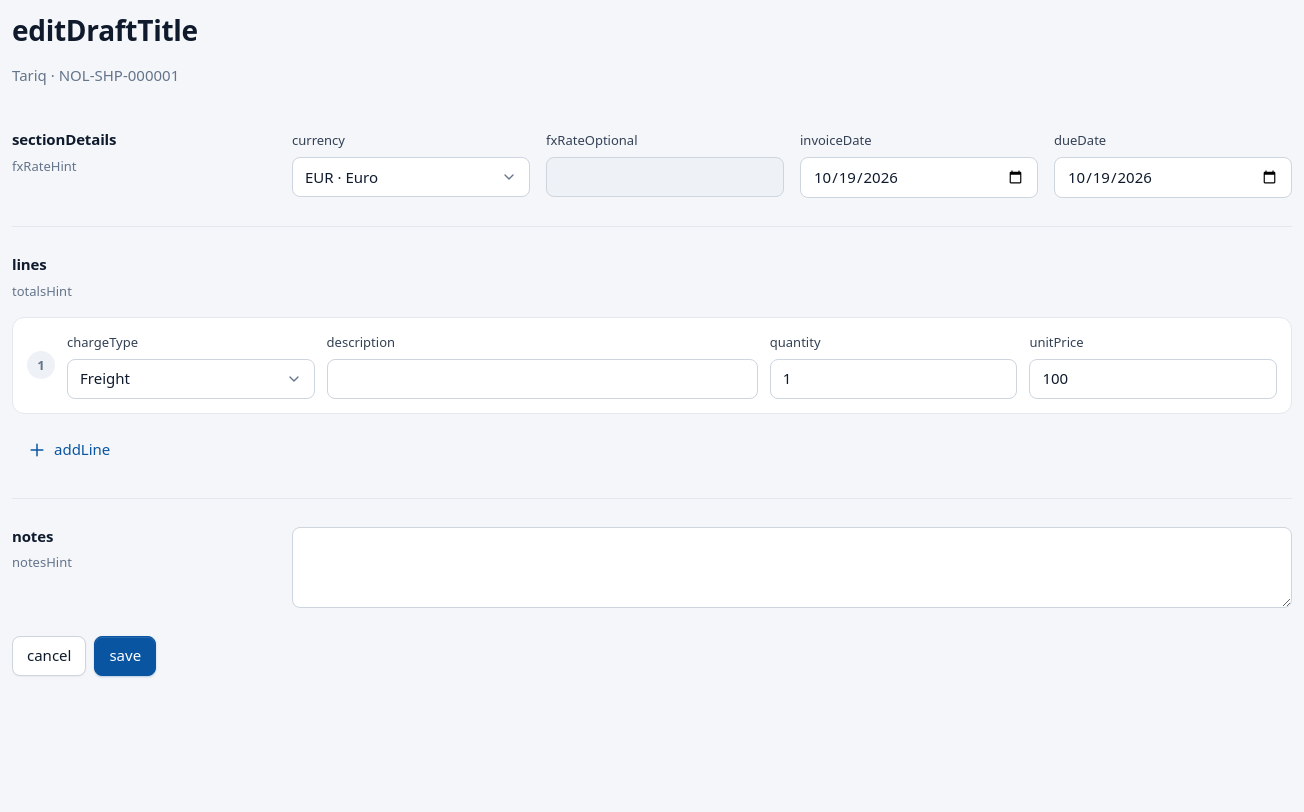
Test: InvoiceForm currency change (Codex F92-6) › clears the prices in another currency and restores them back in its own
This screenshot has width=1304, height=812.
Expected: the field labelled "unitPrice" holds "100", [1029,359,1277,399]
Step 1. Select "EUR · Euro" in the dropdown labelled "currency" → point(411, 177), box [292,157,530,197]
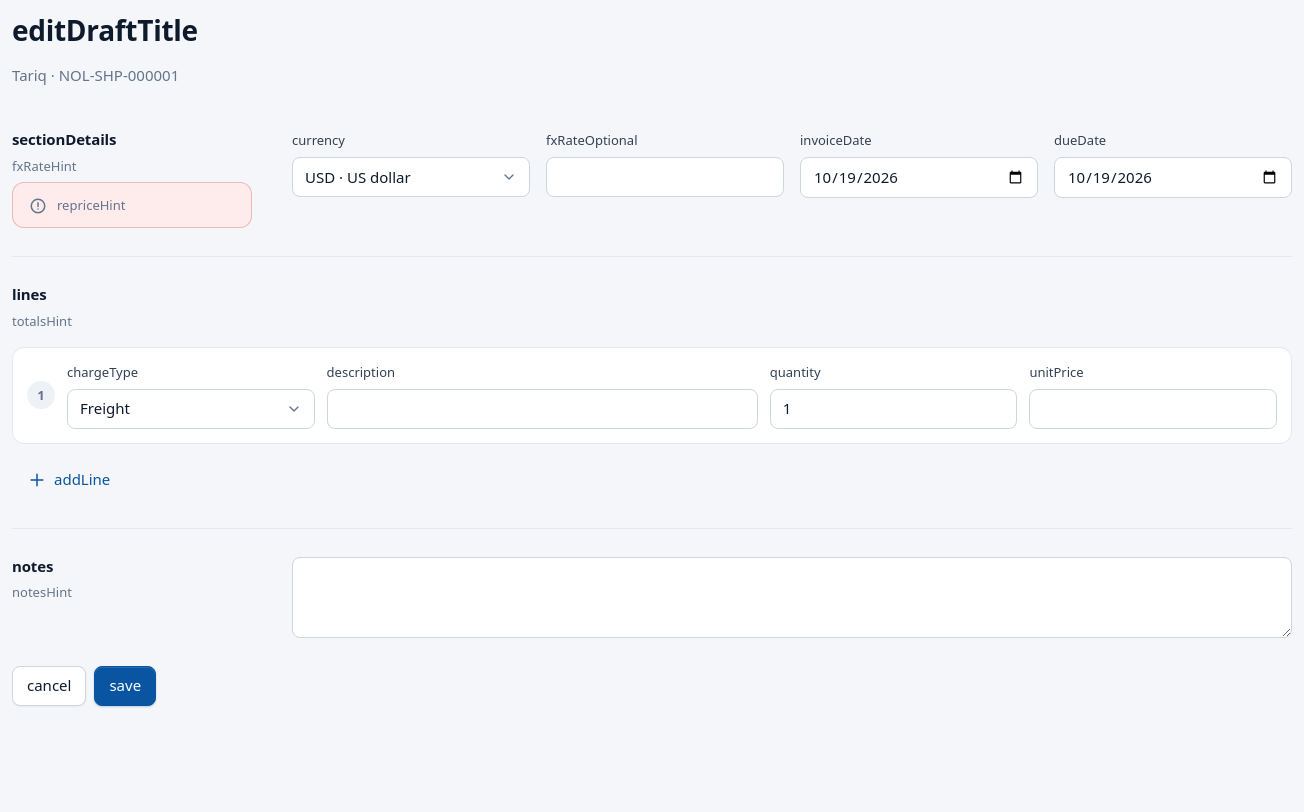
Expected: the field labelled "unitPrice" is empty, [1029,389,1277,429]
Step 2. Select "USD · US dollar" in the dropdown labelled "currency" → point(411, 177), box [292,157,530,197]
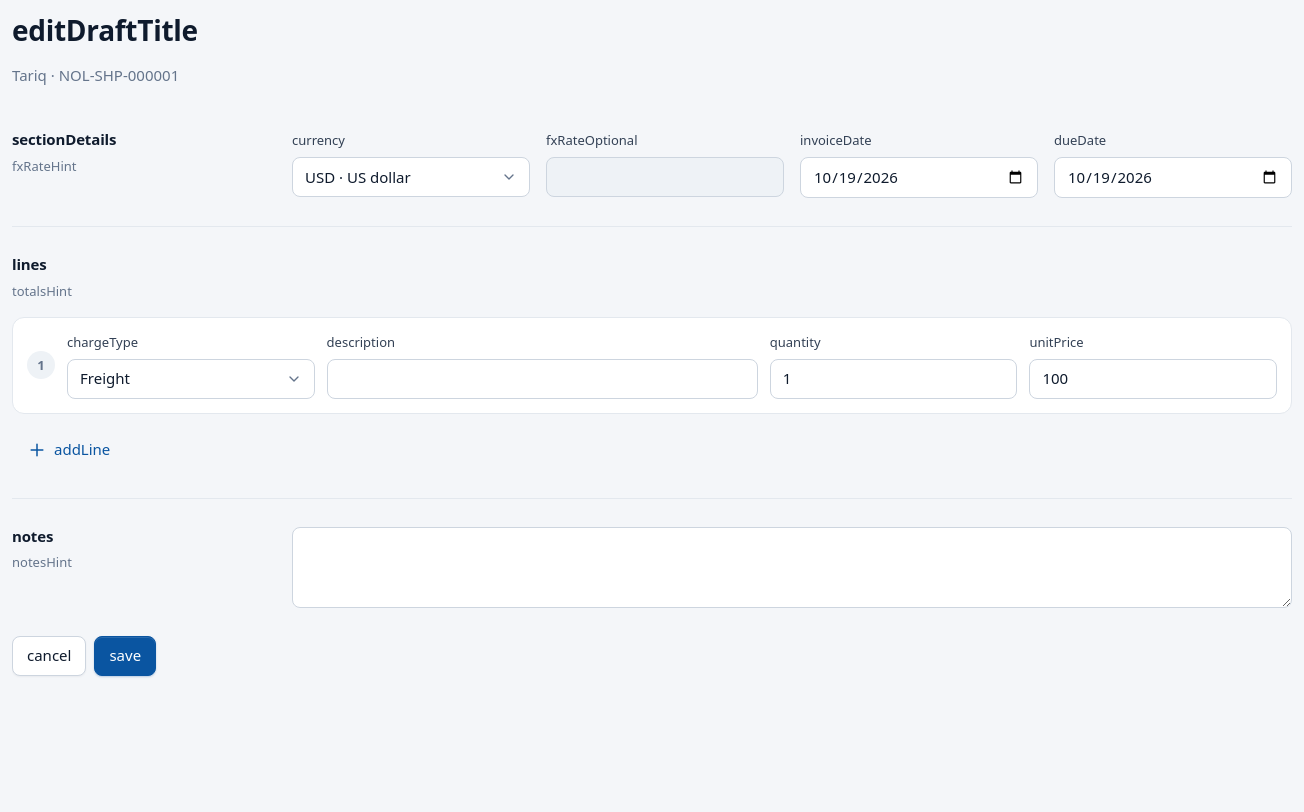
Expected: the field labelled "unitPrice" holds "100", [1029,359,1277,399]
